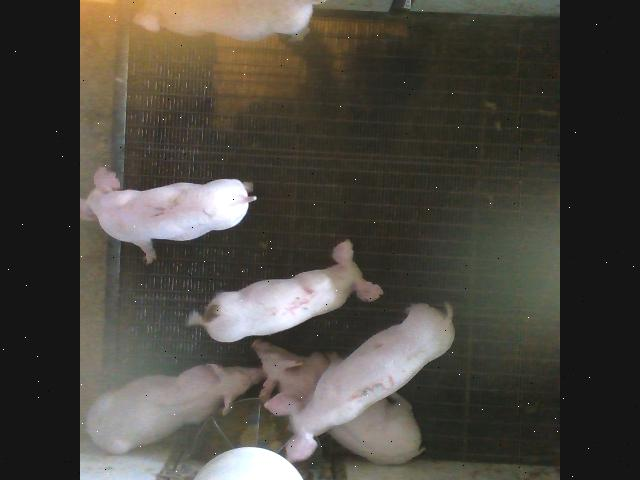pig-3: (265, 302, 455, 461)
pig-5: (189, 239, 382, 341)
